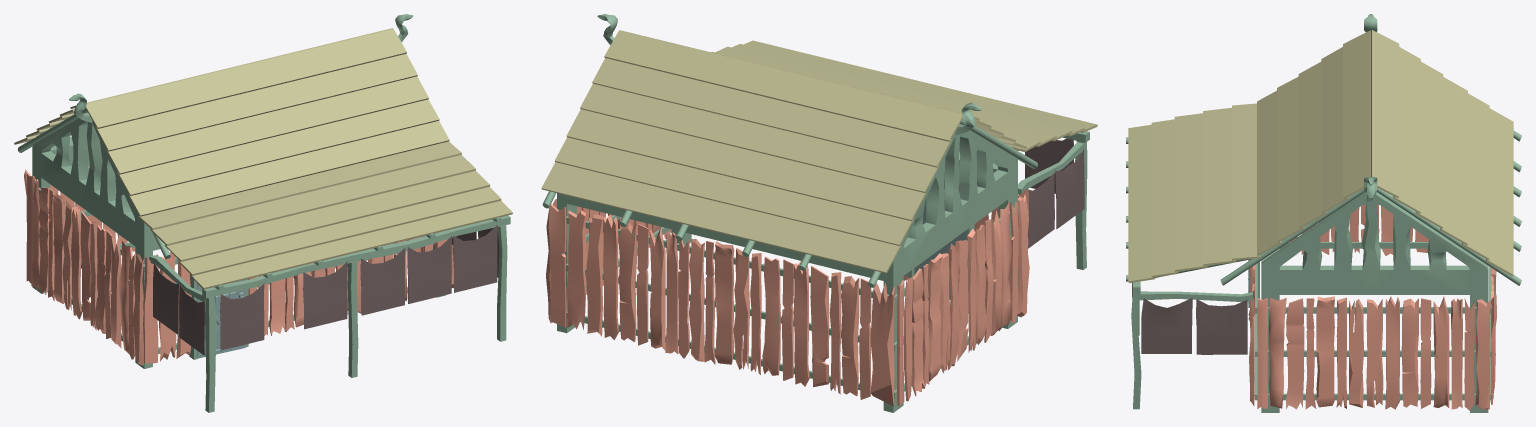
The model's file is shelter_low.FBX.
3 views of the same model, side by side, from view 1: azimuth 30°, elevation 25°; view 2: azimuth 150°, elevation 25°; view 3: azimuth 270°, elevation 25° (orthographic). The views are drawn at different scales.
Visible parts, largest first — view 1: roof_cover_low, main_structure_low, cloths_low, Wood_Plane_40_low, Wood_Plane_54_low, Wood_Plane_07_low, Wood_Plane_63_low, Wood_Plane_30_low, Wood_Plane_51_low, Wood_Plane_26_low, Wood_Plane_36_low, Wood_Plane_69_low (+13 smaller); view 2: roof_cover_low, main_structure_low, cloths_low, Wood_Plane_14_low, Wood_Plane_57_low, Wood_Plane_41_low, Wood_Plane_25_low, Wood_Plane_35_low, Wood_Plane_39_low, Wood_Plane_34_low, Wood_Plane_33_low, Wood_Plane_49_low (+28 smaller); view 3: roof_cover_low, main_structure_low, cloths_low, Wood_Plane_55_low, Wood_Plane_08_low, Wood_Plane_37_low, Wood_Plane_47_low, Wood_Plane_64_low, Wood_Plane_70_low, Wood_Plane_52_low, Wood_Plane_18_low, Wood_Plane_31_low (+9 smaller).
Boxes of the visible parts, x1,y1,x2,y2 form: roof_cover_low: (14, 28, 512, 289); main_structure_low: (18, 14, 510, 412); cloths_low: (153, 225, 499, 355); Wood_Plane_40_low: (143, 254, 158, 363); Wood_Plane_54_low: (52, 191, 65, 303); Wood_Plane_07_low: (36, 187, 50, 294); Wood_Plane_63_low: (110, 236, 121, 348); Wood_Plane_30_low: (71, 206, 82, 319); Wood_Plane_51_low: (133, 254, 143, 365); Wood_Plane_26_low: (80, 211, 91, 320); Wood_Plane_36_low: (95, 225, 106, 333); Wood_Plane_69_low: (119, 241, 130, 354); roof_cover_low: (541, 30, 1097, 273); main_structure_low: (542, 14, 1089, 412); cloths_low: (959, 138, 1084, 248); Wood_Plane_14_low: (870, 282, 894, 406); Wood_Plane_57_low: (714, 241, 734, 364); Wood_Plane_41_low: (567, 210, 586, 329); Wood_Plane_25_low: (810, 266, 829, 386); Wood_Plane_35_low: (841, 276, 859, 396); Wood_Plane_39_low: (549, 203, 566, 327); Wood_Plane_34_low: (618, 222, 636, 341); Wood_Plane_33_low: (762, 256, 780, 375); Wood_Plane_49_low: (586, 214, 603, 336); roof_cover_low: (1128, 30, 1513, 282); main_structure_low: (1126, 14, 1521, 412); cloths_low: (1132, 282, 1247, 354); Wood_Plane_55_low: (1316, 296, 1334, 407); Wood_Plane_08_low: (1286, 298, 1304, 409); Wood_Plane_37_low: (1401, 298, 1418, 407); Wood_Plane_47_low: (1366, 299, 1383, 407); Wood_Plane_64_low: (1433, 296, 1449, 407); Wood_Plane_70_low: (1269, 298, 1286, 408); Wood_Plane_52_low: (1475, 299, 1490, 410); Wood_Plane_18_low: (1349, 299, 1363, 407); Wood_Plane_31_low: (1385, 296, 1400, 409).
Size of the model in its own units: 304 by 200 by 298.
